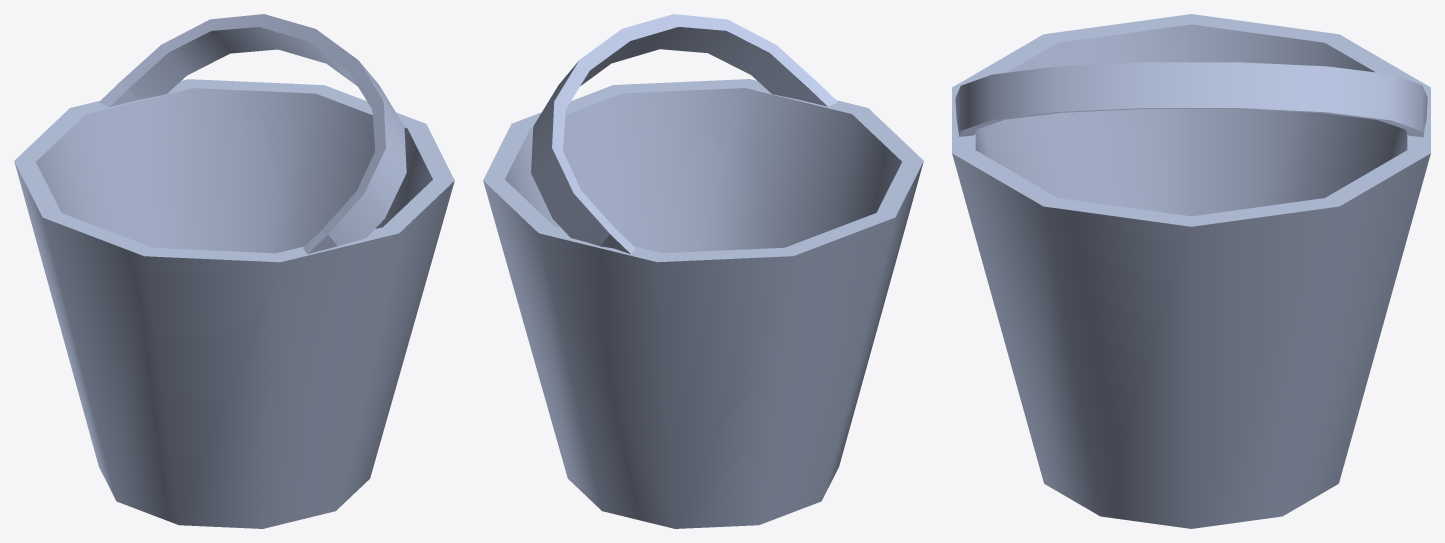
Rendered from Balde vacío.fbx.
The picture shows the model from 3 angles, left to right: view 1: azimuth 30°, elevation 25°; view 2: azimuth 150°, elevation 25°; view 3: azimuth 270°, elevation 25°; orthographic projection. The views are drawn at different scales.
Visible parts, largest first — view 1: Balde; view 2: Balde; view 3: Balde.
Part boxes in pixels (box(x1,y1,x2,y2)): Balde: box(14, 14, 454, 528); Balde: box(483, 14, 923, 528); Balde: box(952, 14, 1430, 528).
Size of the model in its own units: 0.5469 by 0.5489 by 0.5202.
